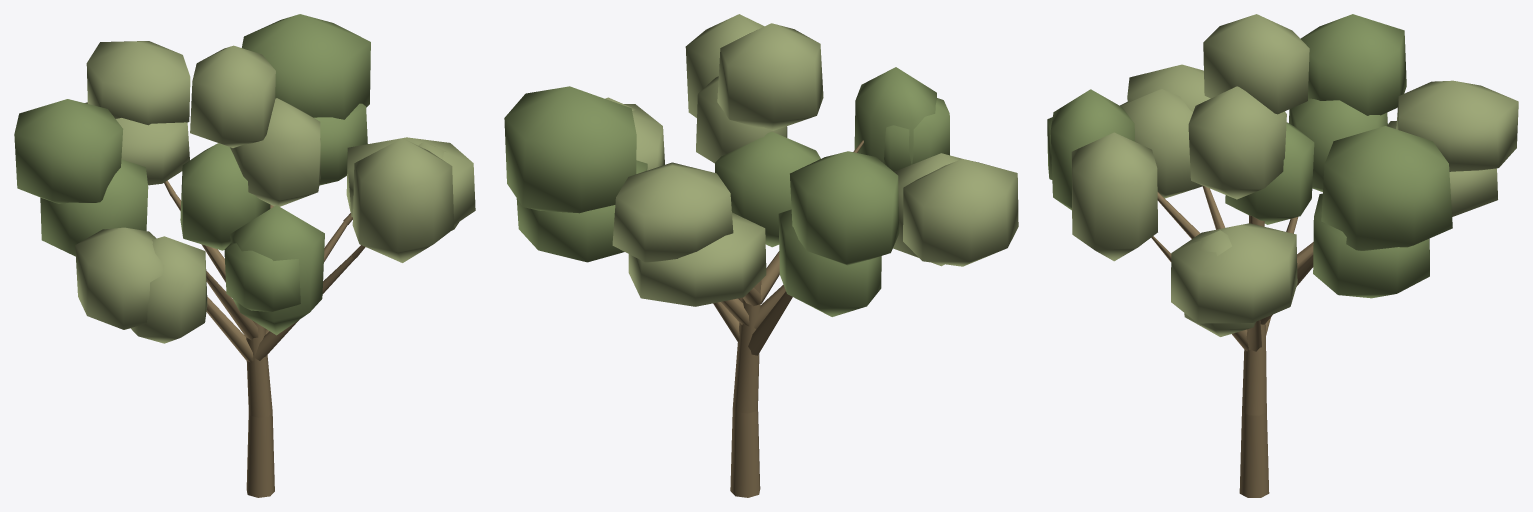
The model's file is tree-b.glb.
The picture shows the model from 3 angles, left to right: view 1: azimuth 30°, elevation 25°; view 2: azimuth 150°, elevation 25°; view 3: azimuth 270°, elevation 25°; orthographic projection. The views are drawn at different scales.
Parts seen in each view (by area): view 1: leaf_sage, leaf_olive, bark; view 2: leaf_olive, leaf_sage, bark; view 3: leaf_sage, leaf_olive, bark.
Part boxes in pixels (x1=…): leaf_sage: x1=75, y1=41, x2=475, y2=343; leaf_olive: x1=14, y1=14, x2=370, y2=335; bark: x1=164, y1=180, x2=365, y2=497; leaf_olive: x1=504, y1=67, x2=949, y2=316; leaf_sage: x1=605, y1=14, x2=1018, y2=306; bark: x1=713, y1=140, x2=863, y2=497; leaf_sage: x1=1071, y1=14, x2=1518, y2=336; leaf_olive: x1=1047, y1=14, x2=1452, y2=298; bark: x1=1151, y1=185, x2=1313, y2=497.
Bounding box in the file's own units: 4.34 × 4.67 × 4.29.
